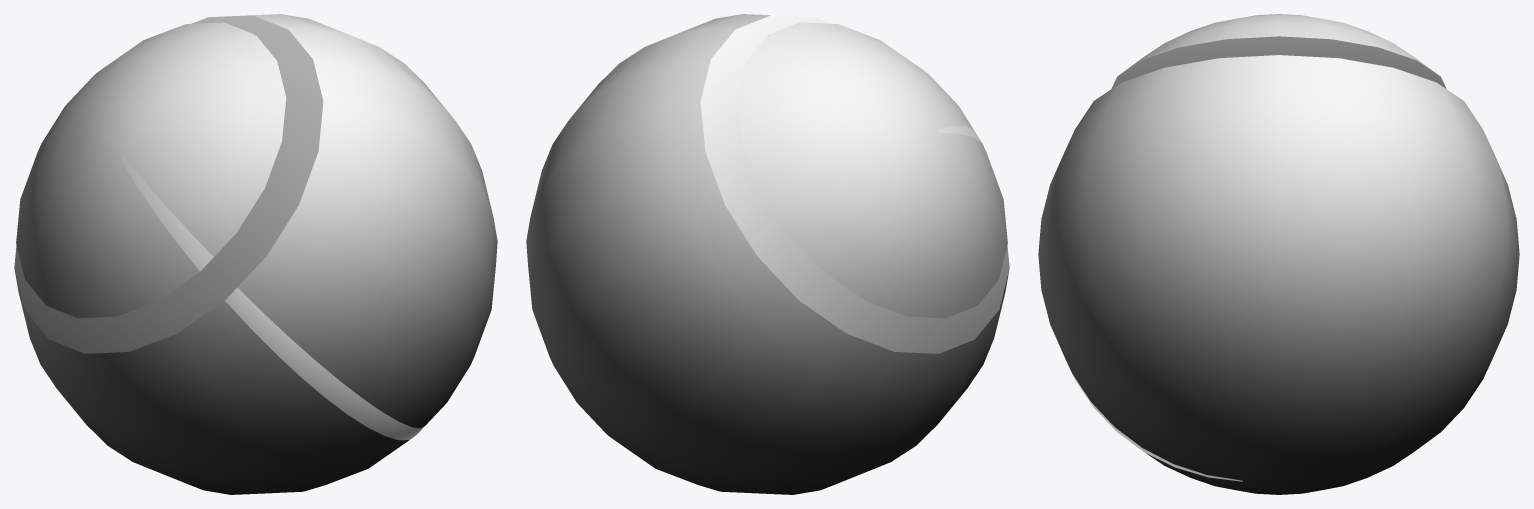
Rendered from BG_onecut_sphere_ligned.fbx.
The picture shows the model from 3 angles, left to right: view 1: azimuth 30°, elevation 25°; view 2: azimuth 150°, elevation 25°; view 3: azimuth 270°, elevation 25°; orthographic projection.
Visible parts, largest first — view 1: BG_onecut_sphere_ligned; view 2: BG_onecut_sphere_ligned; view 3: BG_onecut_sphere_ligned.
Part boxes in pixels (x1,y1,x2,y2): BG_onecut_sphere_ligned: (14,14,497,494); BG_onecut_sphere_ligned: (526,14,1009,494); BG_onecut_sphere_ligned: (1038,14,1519,494).
Size of the model in its own units: 3346 by 3346 by 3346.
